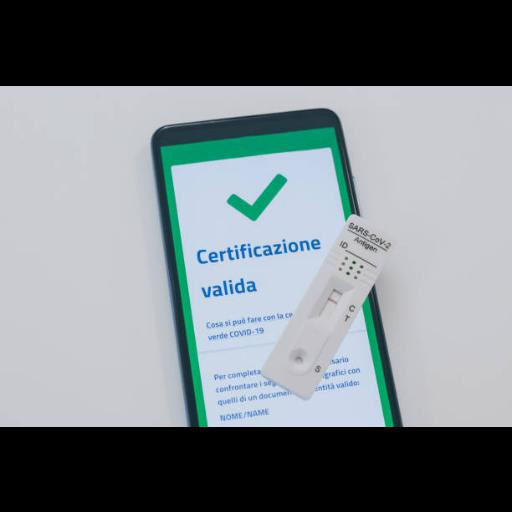Neg: (260, 212, 398, 398)
